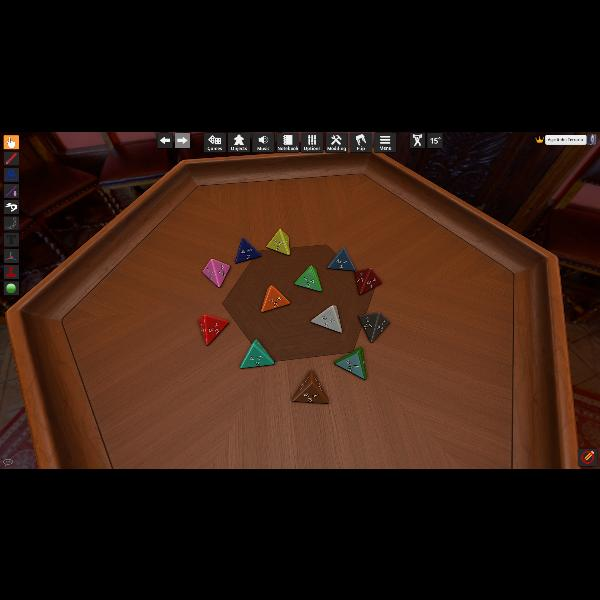d4: (292, 371, 328, 404), (334, 348, 366, 380), (240, 338, 274, 368), (359, 310, 389, 342), (198, 313, 228, 345), (310, 305, 342, 332), (262, 284, 290, 312), (202, 258, 228, 288), (354, 267, 381, 295), (295, 265, 321, 291), (234, 237, 260, 263), (327, 247, 355, 271), (266, 228, 290, 254)
